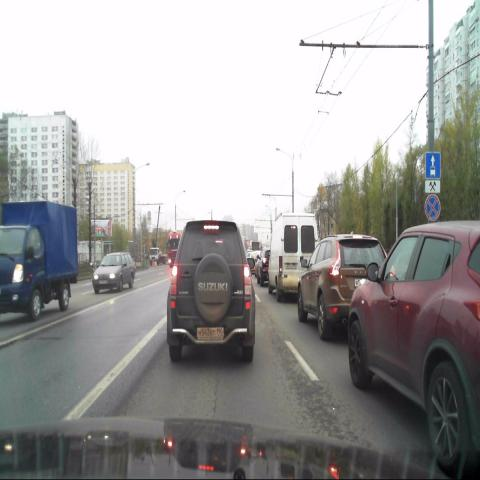5_14: (425, 152, 441, 180)
